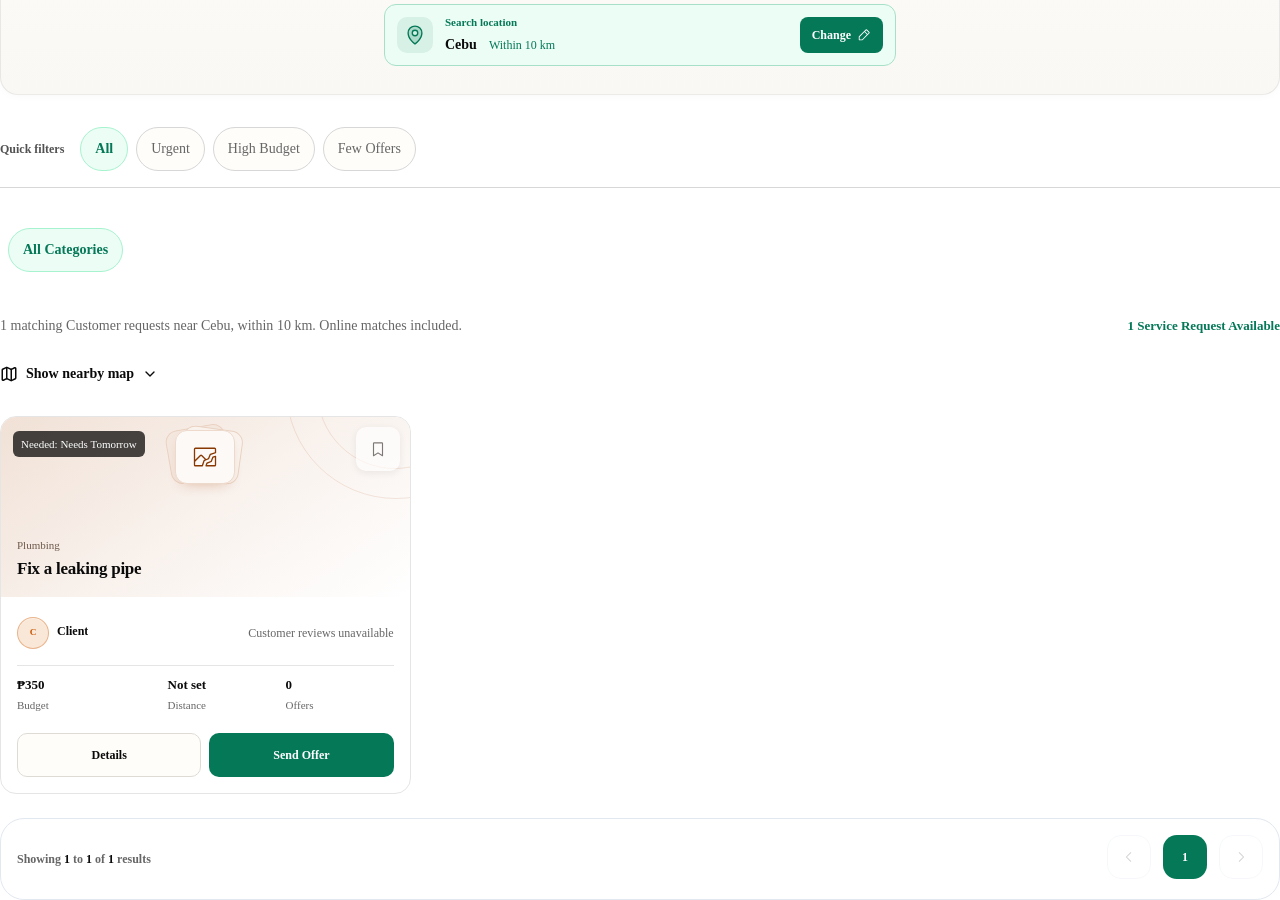
Test: Find Work offer eligibility › does not require a paused listing to respond
This screenshot has width=1280, height=900.
(page scrolled)
Step 1. Click the button "Send Offer" → (301, 755), box [209,733,394,777]
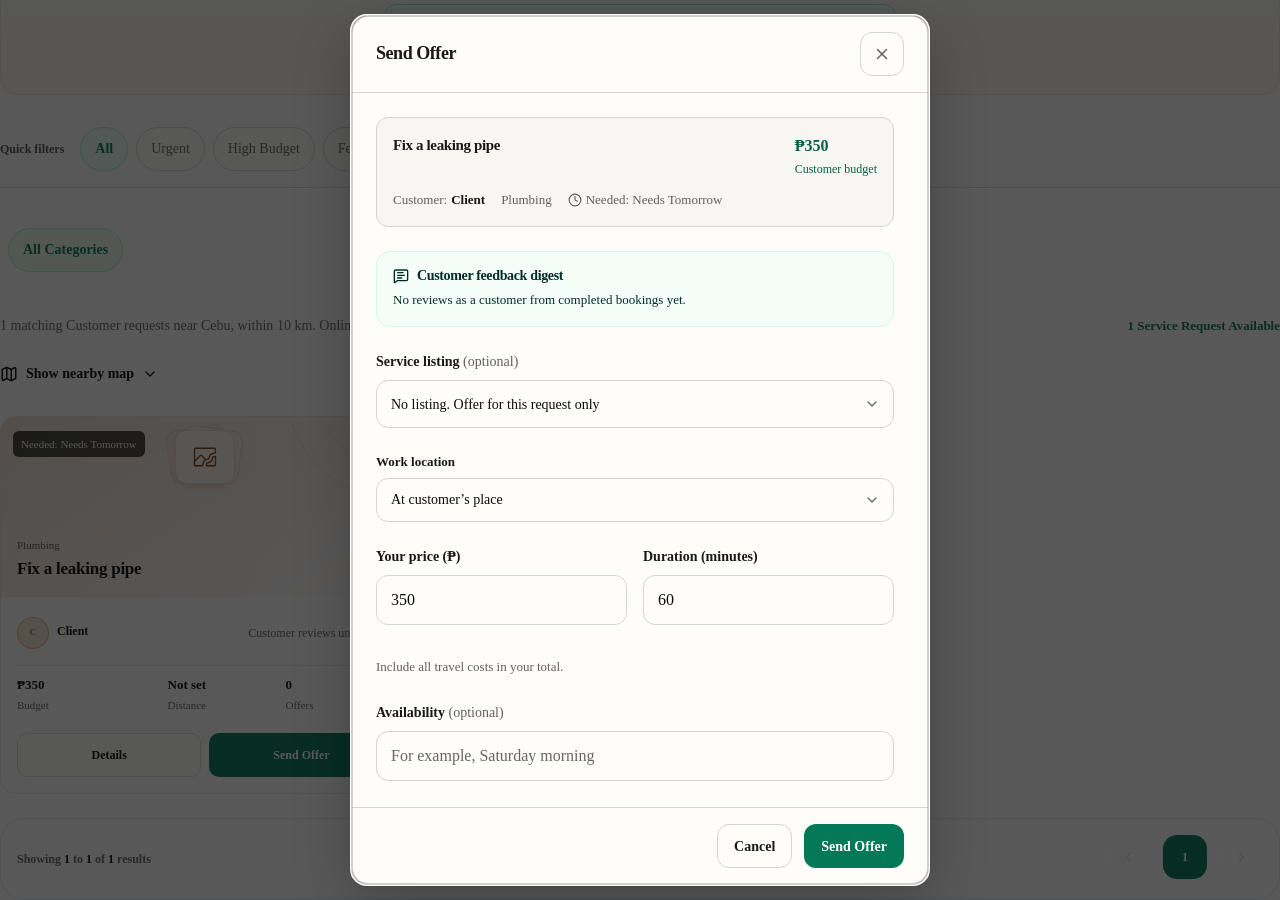
Result: the dropdown labelled "Service listing (optional)" shows "No listing. Offer for this request only" at [376,380,894,428]
